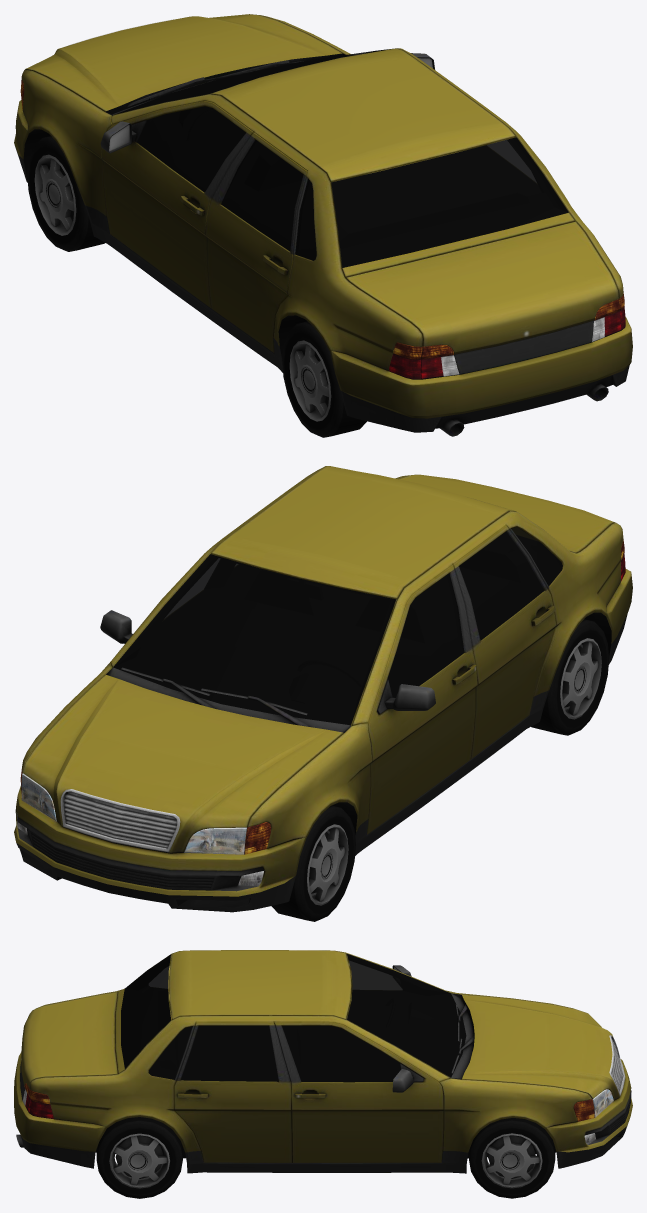
Rendered from car_sedan.glb.
3 views of the same model, one above another, from view 1: azimuth 30°, elevation 25°; view 2: azimuth 150°, elevation 25°; view 3: azimuth 270°, elevation 25° (orthographic). The views are drawn at different scales.
Visible parts, largest first — view 1: Sedan Body_Body_0, Sedan Body_Glass_0, Wheel_A001_Wheel_0, Wheel_A_Wheel_0, Sedan Body_Optics_0; view 2: Sedan Body_Body_0, Sedan Body_Glass_0, Wheel_A_Wheel_0, Wheel_A001_Wheel_0, Sedan Body_Optics_0; view 3: Sedan Body_Body_0, Sedan Body_Glass_0, Wheel_A003_Wheel_0, Wheel_A002_Wheel_0, Sedan Body_Optics_0.
Part boxes in pixels (x1,y1,x2,y2): Sedan Body_Body_0: (14, 14, 632, 436); Sedan Body_Glass_0: (114, 48, 568, 267); Wheel_A001_Wheel_0: (282, 321, 366, 437); Wheel_A_Wheel_0: (27, 136, 105, 251); Sedan Body_Optics_0: (20, 76, 625, 379); Sedan Body_Body_0: (14, 466, 632, 912); Sedan Body_Glass_0: (113, 527, 562, 725); Wheel_A_Wheel_0: (271, 805, 355, 921); Wheel_A001_Wheel_0: (531, 619, 609, 735); Sedan Body_Optics_0: (16, 540, 625, 886); Sedan Body_Body_0: (14, 950, 632, 1173); Sedan Body_Glass_0: (121, 954, 466, 1082); Wheel_A003_Wheel_0: (96, 1117, 182, 1198); Wheel_A002_Wheel_0: (469, 1118, 555, 1198); Sedan Body_Optics_0: (22, 1083, 613, 1144).
Bounding box in the file's own units: 1.94 × 1.34 × 4.36.
Materials: 4 (3 with a texture image).
